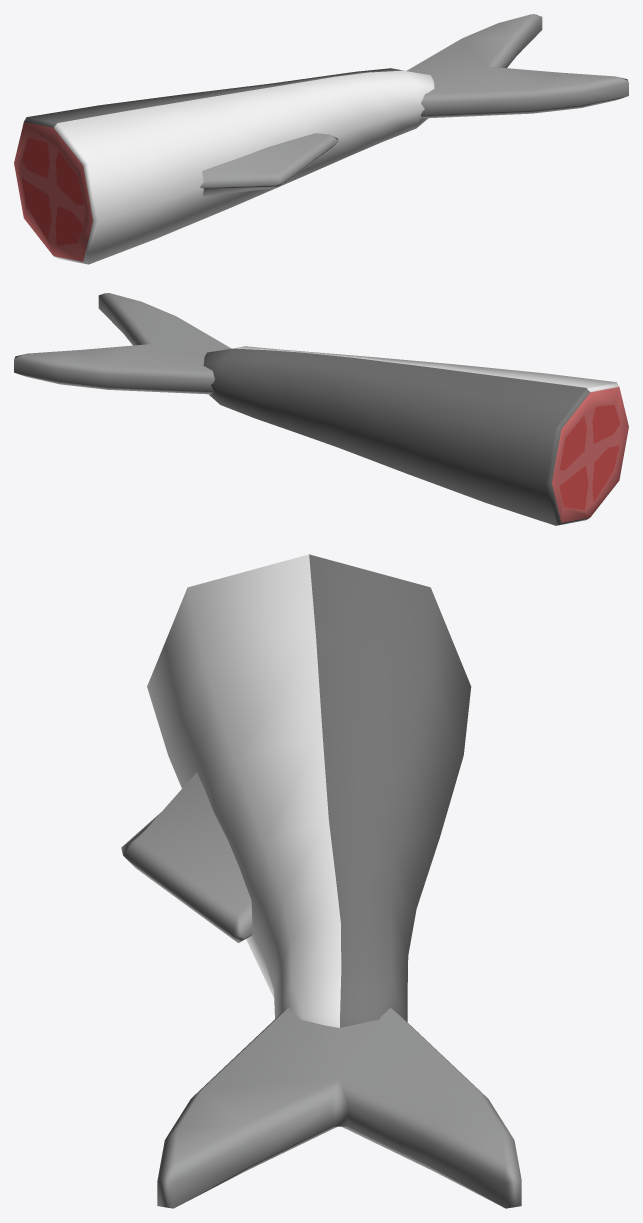
The model's file is Anchovy_2_Half_2.fbx.
The picture shows the model from 3 angles, top to bottom: view 1: azimuth 30°, elevation 25°; view 2: azimuth 150°, elevation 25°; view 3: azimuth 270°, elevation 25°; orthographic projection. The views are drawn at different scales.
Parts seen in each view (by area): view 1: Anchovy_2_Half_2; view 2: Anchovy_2_Half_2; view 3: Anchovy_2_Half_2.
Boxes of the visible parts, <box> form: Anchovy_2_Half_2: <box>14,14,628,264</box>; Anchovy_2_Half_2: <box>14,293,628,525</box>; Anchovy_2_Half_2: <box>121,554,521,1208</box>.
Size of the model in its own units: 12.43 by 2.99 by 4.1.
